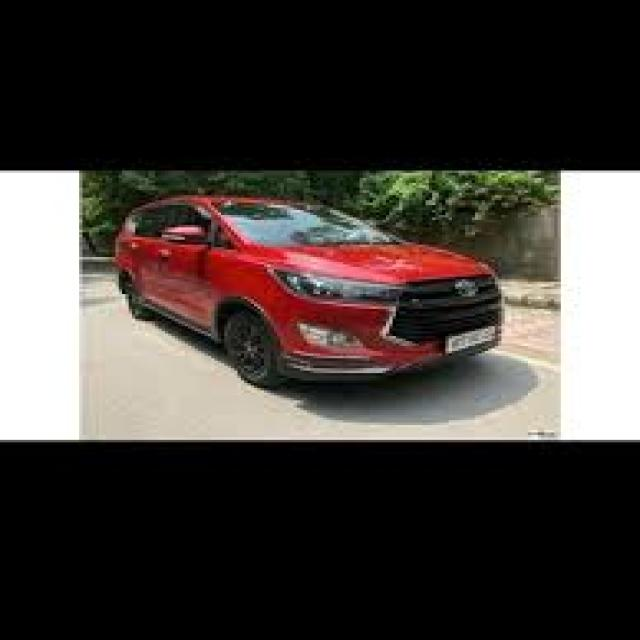Car: (115, 196, 502, 386)
